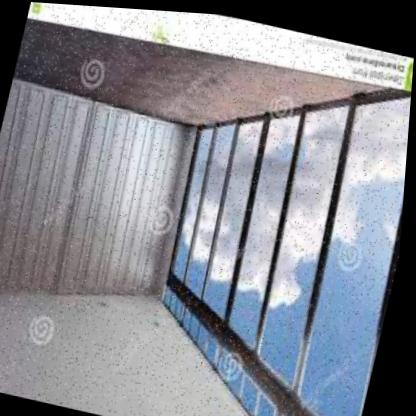Window: (131, 38, 414, 416)
